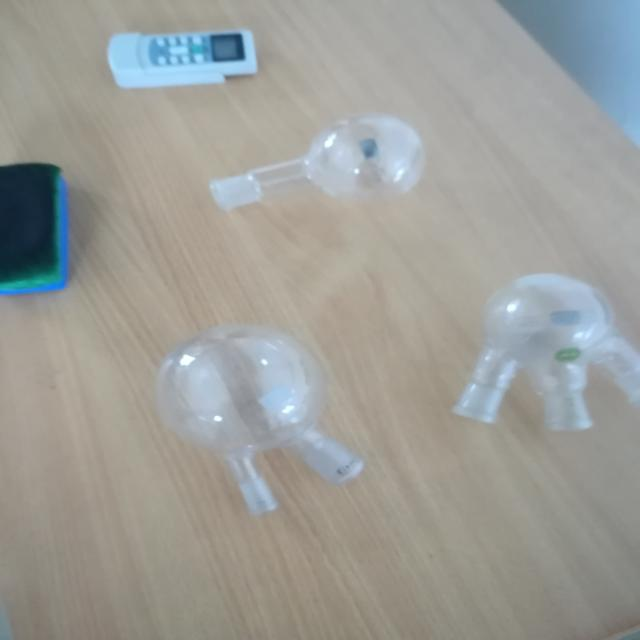Round_Bottom_Flask_Borosilicate_Glass_1_Neck: (196, 97, 454, 231)
Round_Bottom_Flask_Borosilicate_Glass_2_Neck: (123, 312, 389, 537)
Round_Bottom_Flask_Borosilicate_Glass_3_Neck: (445, 245, 640, 464)
